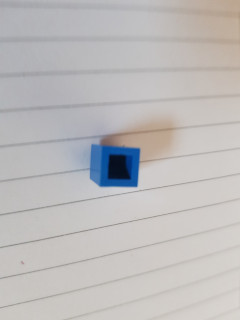1x1 blue: (87, 141, 143, 191)
